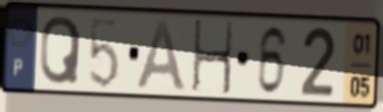2: (298, 24, 341, 100)
5: (86, 15, 123, 90)
6: (256, 23, 287, 96)
A: (133, 17, 190, 94)
H: (190, 18, 236, 98)
Q: (38, 13, 84, 87)
